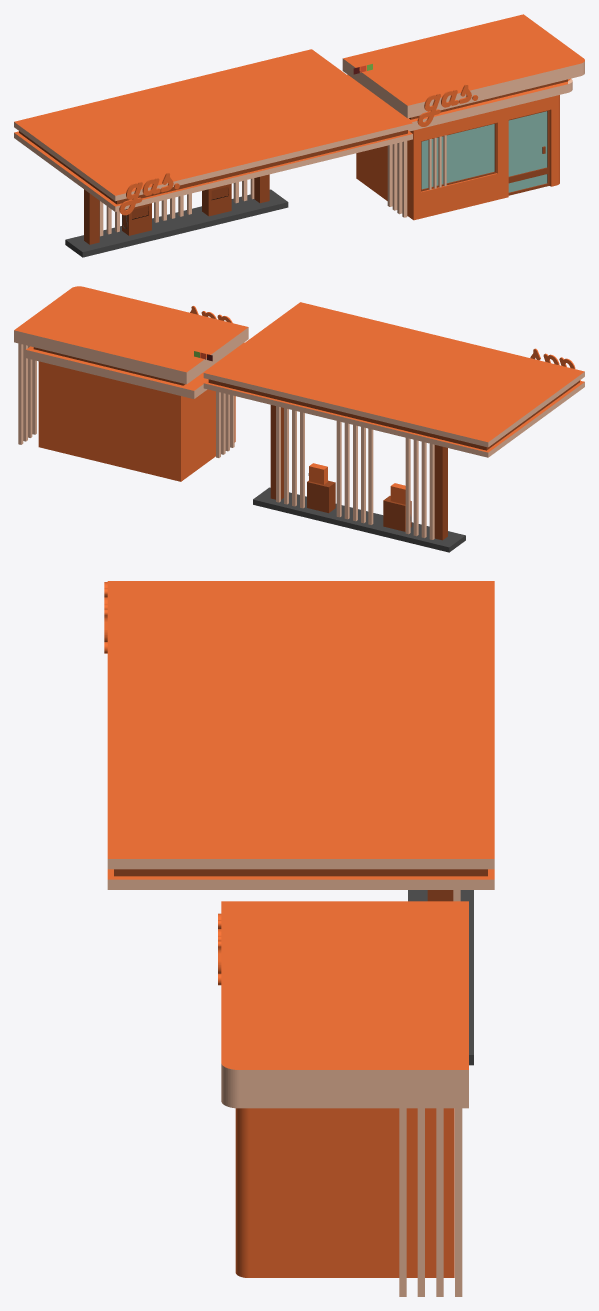
File: gas.obj
The picture shows the model from 3 angles, top to bottom: view 1: azimuth 30°, elevation 25°; view 2: azimuth 150°, elevation 25°; view 3: azimuth 270°, elevation 25°; orthographic projection. The views are drawn at different scales.
Visible parts, largest first — view 1: Object_133, Object_140, Object_143, Object_138, Object_142, Object_134, Object_136, Object_141, Object_144, Object_135; view 2: Object_133, Object_140, Object_138, Object_143, Object_134, Object_136, Object_141; view 3: Object_133, Object_140, Object_143, Object_138, Object_134, Object_136.
Boxes of the visible parts, x1=… form: Object_133: x1=14, y1=49, x2=412, y2=206; Object_140: x1=343, y1=14, x2=584, y2=220; Object_143: x1=342, y1=58, x2=584, y2=217; Object_138: x1=14, y1=122, x2=412, y2=236; Object_142: x1=421, y1=111, x2=547, y2=192; Object_134: x1=19, y1=130, x2=407, y2=244; Object_136: x1=65, y1=189, x2=288, y2=257; Object_141: x1=409, y1=79, x2=567, y2=195; Object_144: x1=417, y1=84, x2=478, y2=126; Object_135: x1=119, y1=172, x2=179, y2=215; Object_133: x1=204, y1=302, x2=584, y2=504; Object_140: x1=14, y1=286, x2=248, y2=481; Object_138: x1=203, y1=372, x2=584, y2=539; Object_143: x1=14, y1=327, x2=248, y2=457; Object_134: x1=208, y1=379, x2=579, y2=540; Object_136: x1=253, y1=473, x2=465, y2=552; Object_141: x1=33, y1=347, x2=185, y2=385; Object_133: x1=107, y1=581, x2=494, y2=879; Object_140: x1=221, y1=901, x2=468, y2=1277; Object_143: x1=221, y1=1064, x2=468, y2=1296; Object_138: x1=107, y1=859, x2=494, y2=901; Object_134: x1=114, y1=869, x2=487, y2=901; Object_136: x1=408, y1=890, x2=473, y2=1065.
Size of the model in its own units: 15.61 by 4.19 by 5.49.
